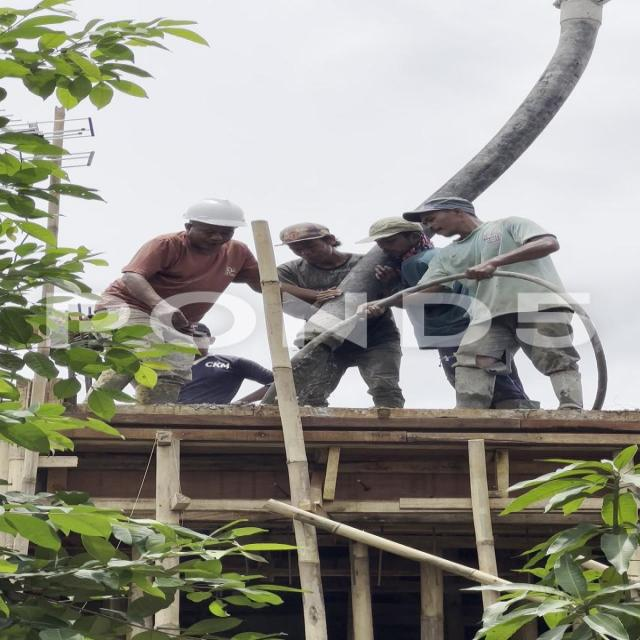Helmet: (422, 209, 574, 336), (126, 216, 249, 333), (272, 251, 394, 345), (381, 250, 477, 342), (169, 179, 259, 241), (344, 207, 434, 265), (394, 192, 495, 243), (268, 207, 348, 268)
